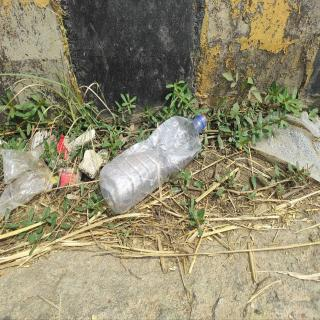Plastic-bottle: (98, 112, 210, 217)
